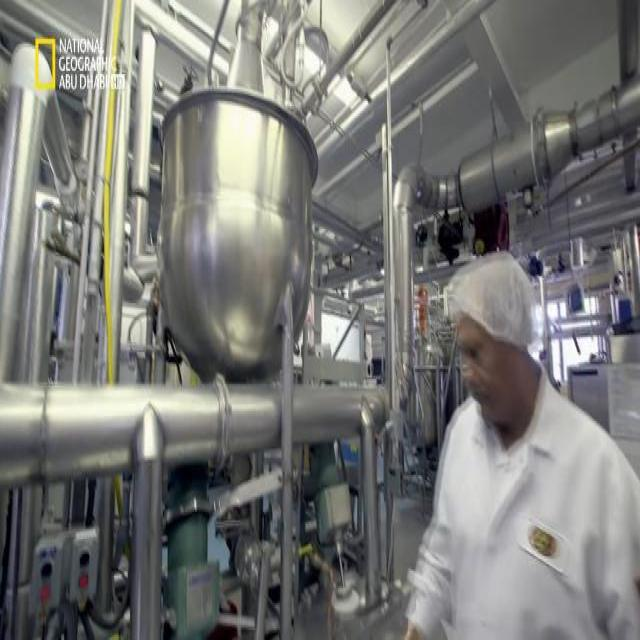hairnet: (449, 252, 542, 341)
